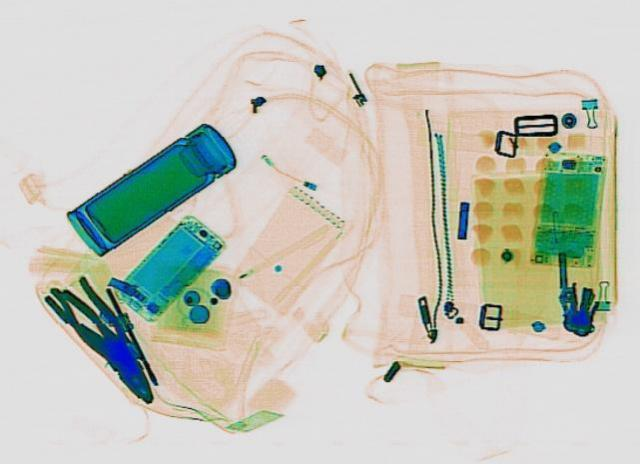Pliers: (40, 271, 174, 410)
